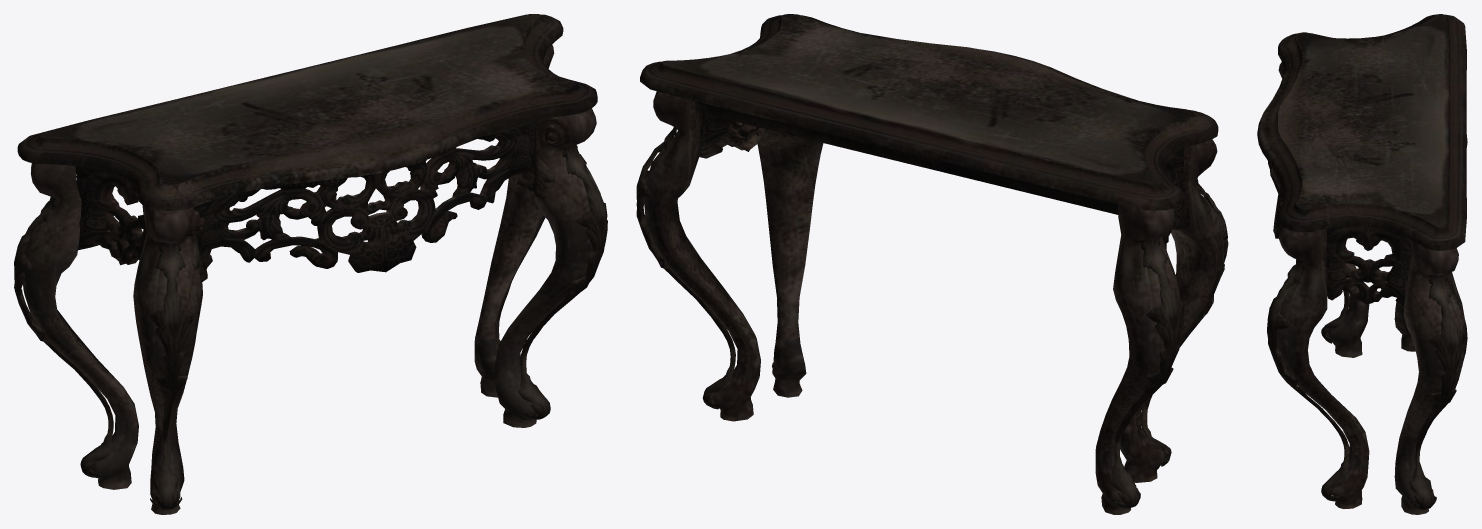
Rendered from ClassicConsole_01.glb.
The picture shows the model from 3 angles, left to right: view 1: azimuth 30°, elevation 25°; view 2: azimuth 150°, elevation 25°; view 3: azimuth 270°, elevation 25°; orthographic projection. The views are drawn at different scales.
Visible parts, largest first — view 1: ClassicConsole_01; view 2: ClassicConsole_01; view 3: ClassicConsole_01.
Boxes of the visible parts, x1,y1,x2,y2 form: ClassicConsole_01: [14, 14, 607, 514]; ClassicConsole_01: [636, 14, 1228, 514]; ClassicConsole_01: [1257, 14, 1467, 514].
Size of the model in its own units: 1.54 by 0.949 by 0.5895.
1 material, 1 textured.
